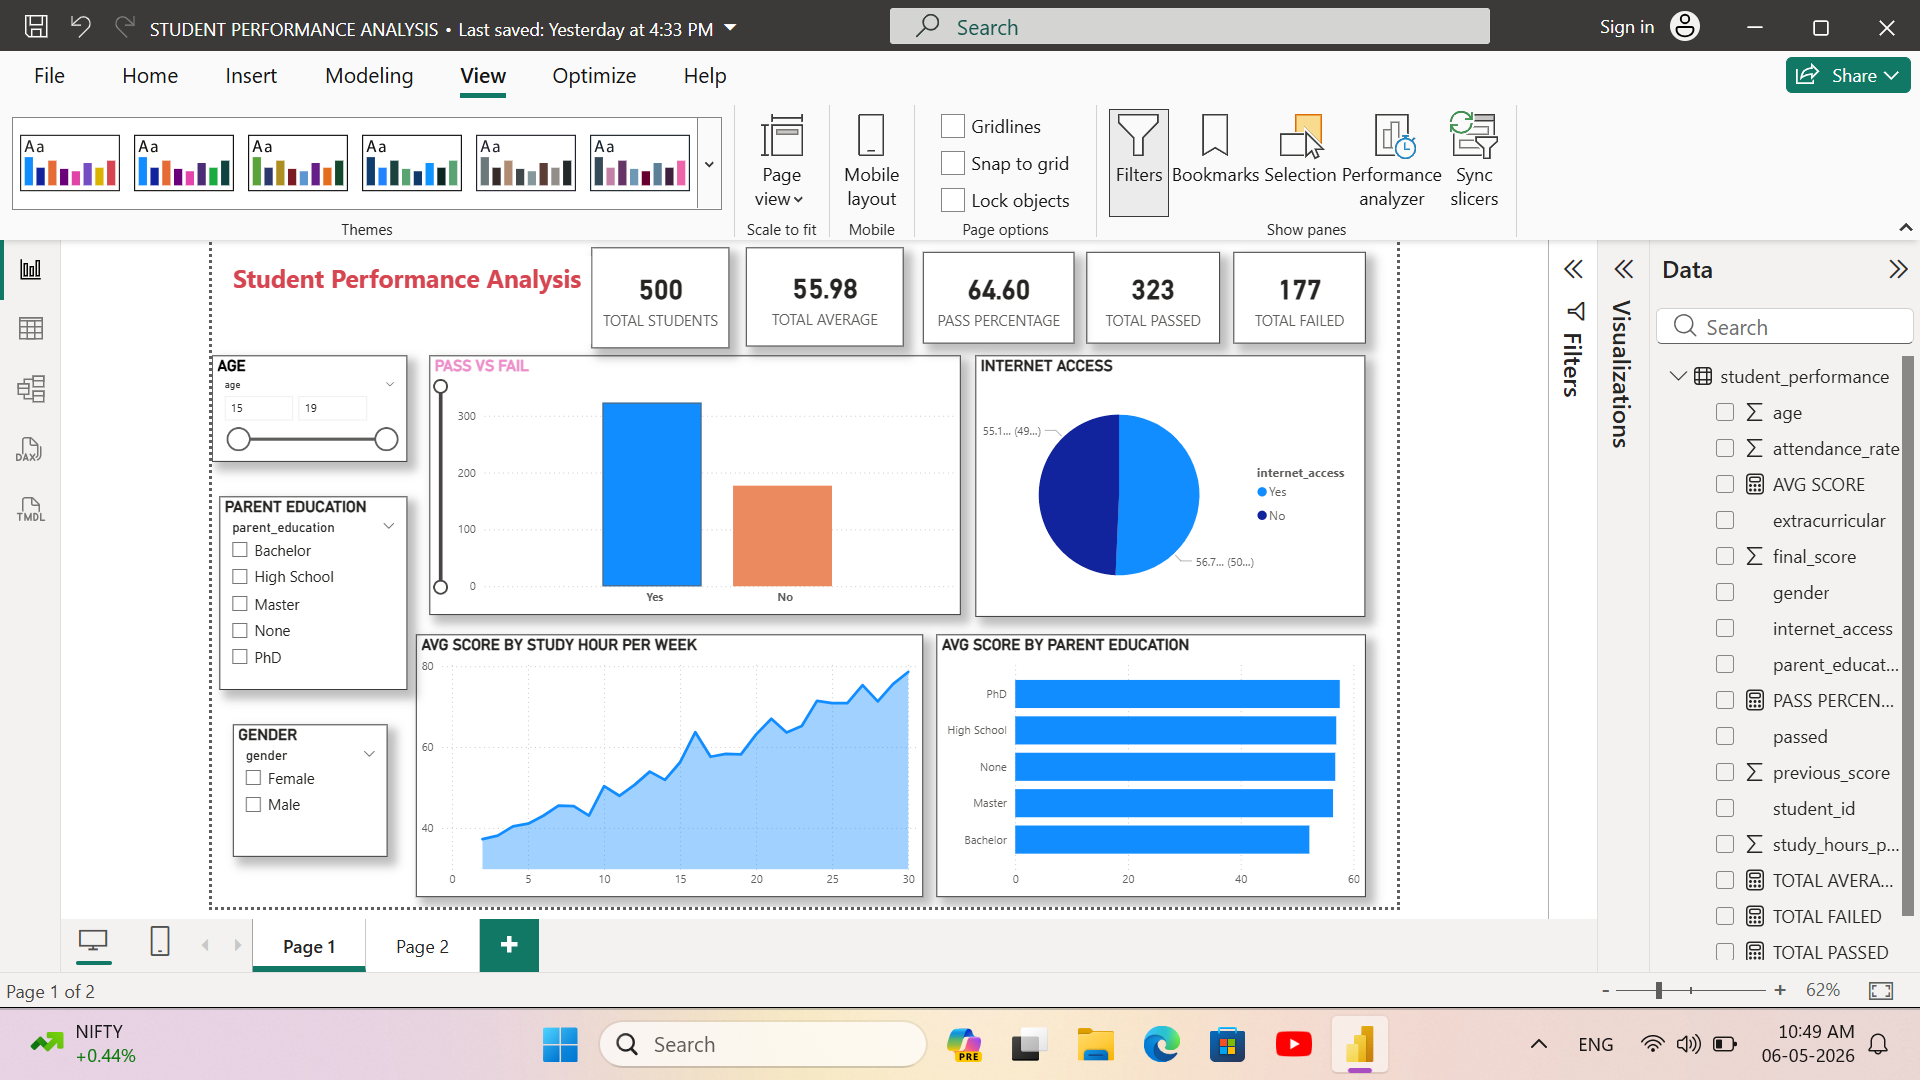

This screenshot's page, from the dashboard's own definition file:
{"tool":"powerbi","page":{"name":"Page 1","canvas":[1280,720],"ordinal":0},"visuals":[{"type":"columnChart","title":"PASS VS FAIL","fields":{"Category":["student_performance.passed"],"Y":["student_performance.TOTAL STUDENTS"]},"box":[234.8,124.7,573.2,280.1],"z":0},{"type":"card","fields":{"Values":["student_performance.TOTAL STUDENTS"]},"box":[429.1,6.5,147.3,108.5],"z":1000},{"type":"card","fields":{"Values":["student_performance.TOTAL AVERAGE"]},"box":[576.4,11.3,170,100.4],"z":2000},{"type":"card","fields":{"Values":["student_performance.TOTAL PASSED"]},"box":[931.1,13,157.1,105.2],"z":3000},{"type":"card","fields":{"Values":["student_performance.TOTAL FAILED"]},"box":[1088.1,6.5,157.1,110.1],"z":4000},{"type":"card","fields":{"Values":["student_performance.PASS PERCENTAGE"]},"box":[746.5,11.3,184.6,98.8],"z":5000},{"type":"lineChart","fields":{"Category":["student_performance.study_hours_per_week"],"Y":["student_performance.AVG SCORE"]},"box":[220.2,425.9,547.3,283.4],"z":6000},{"type":"pieChart","fields":{"Category":["student_performance.internet_access"],"Y":["student_performance.AVG SCORE"]},"box":[824.2,124.7,421,281.7],"z":7000},{"type":"barChart","fields":{"Category":["student_performance.parent_education"],"Y":["student_performance.AVG SCORE"]},"box":[782.1,425.9,463.1,283.4],"z":8000},{"type":"slicer","fields":{"Values":["student_performance.gender"]},"box":[0,516.5,166.8,87.4],"z":9000},{"type":"slicer","title":"AGE","fields":{"Values":["student_performance.age"]},"box":[0,124.7,210.5,115],"z":10000},{"type":"slicer","fields":{"Values":["student_performance.parent_education"]},"box":[8.1,276.9,202.4,208.9],"z":11000},{"type":"textbox","box":[11.3,17.8,398.3,93.9],"z":12000}]}

Visuals, with their boxes on the page's 1280x720 design canvas (x1, y1, x2, y2). These are canvas units, not pixel positions in the 1920x1080 screenshot, which may show the page scaled, cropped or inside an application window:
"PASS VS FAIL" columnChart: x1=235, y1=125, x2=808, y2=405
card - student_performance.TOTAL STUDENTS: x1=429, y1=6, x2=576, y2=115
card - student_performance.TOTAL AVERAGE: x1=576, y1=11, x2=746, y2=112
card - student_performance.TOTAL PASSED: x1=931, y1=13, x2=1088, y2=118
card - student_performance.TOTAL FAILED: x1=1088, y1=6, x2=1245, y2=117
card - student_performance.PASS PERCENTAGE: x1=746, y1=11, x2=931, y2=110
lineChart - student_performance.study_hours_per_week x student_performance.AVG SCORE: x1=220, y1=426, x2=768, y2=709
pieChart - student_performance.internet_access x student_performance.AVG SCORE: x1=824, y1=125, x2=1245, y2=406
barChart - student_performance.parent_education x student_performance.AVG SCORE: x1=782, y1=426, x2=1245, y2=709
slicer - student_performance.gender: x1=0, y1=516, x2=167, y2=604
"AGE" slicer: x1=0, y1=125, x2=210, y2=240
slicer - student_performance.parent_education: x1=8, y1=277, x2=210, y2=486
textbox: x1=11, y1=18, x2=410, y2=112
